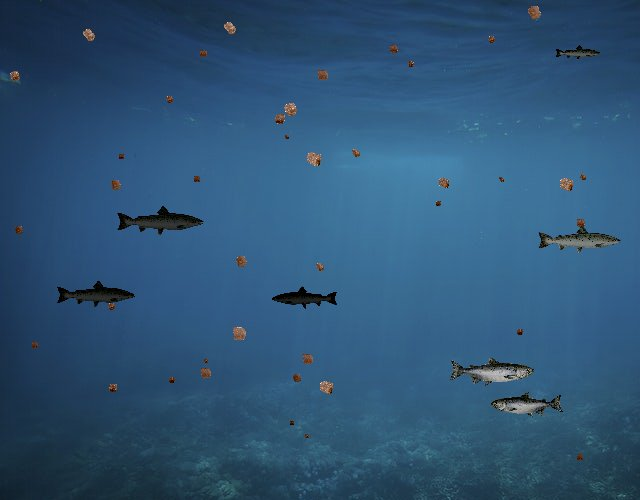Fish: (115, 205, 205, 237), (536, 224, 622, 255), (448, 356, 534, 387), (55, 279, 136, 309), (491, 392, 564, 418), (272, 285, 340, 310), (554, 44, 601, 61)
Pellet: (3, 65, 26, 87), (571, 214, 590, 233), (346, 143, 365, 162), (384, 40, 402, 58), (512, 325, 526, 339), (432, 197, 445, 210), (115, 151, 127, 163), (200, 356, 210, 366)
